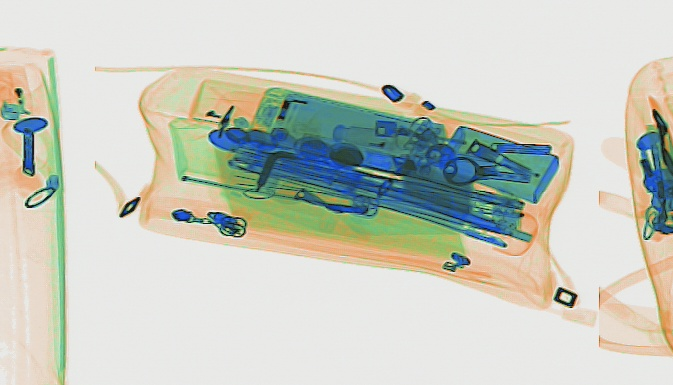lighter: (1, 63, 33, 120)
